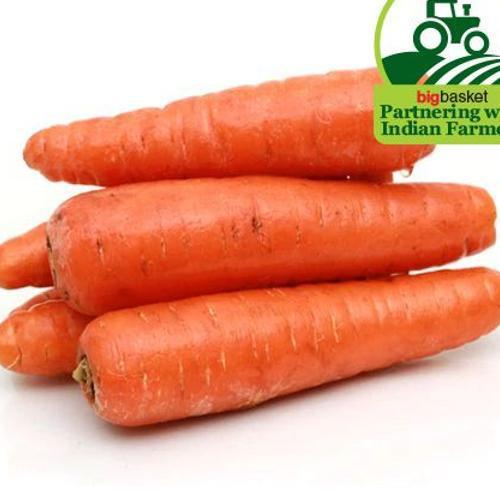carrot: (0, 151, 500, 439), (15, 162, 500, 301), (23, 114, 477, 210)
